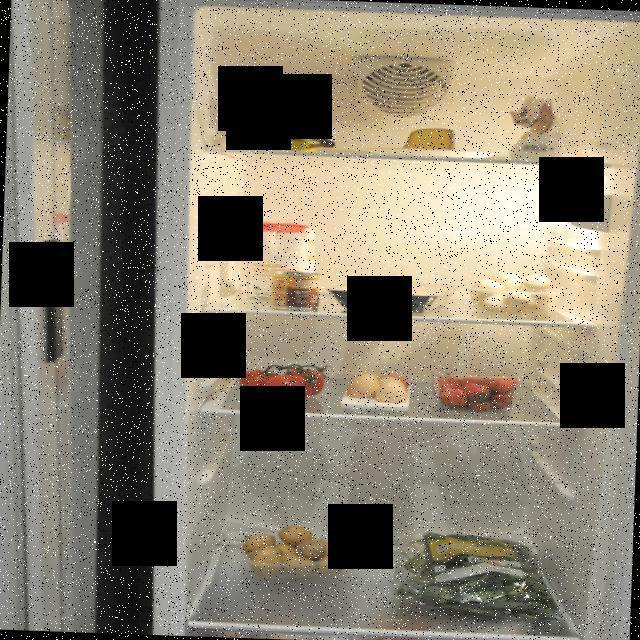banana: (237, 110, 340, 156)
cheese: (400, 122, 460, 154)
corn: (270, 270, 322, 314)
eggs: (342, 366, 416, 411)
flour: (507, 93, 569, 165)
mushrooms: (470, 268, 559, 311)
potato: (237, 522, 348, 576)
spinach: (397, 528, 558, 623)
strawberries: (429, 369, 522, 417)
sugar: (246, 218, 316, 298)
tomato: (237, 362, 333, 408)
